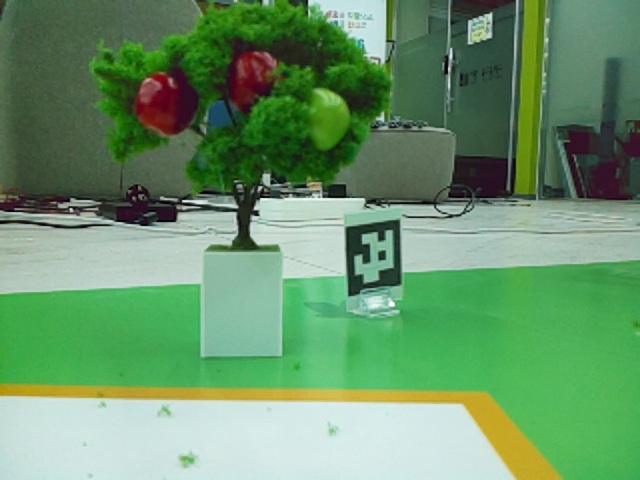apple: (136, 74, 178, 134), (235, 52, 271, 102)
